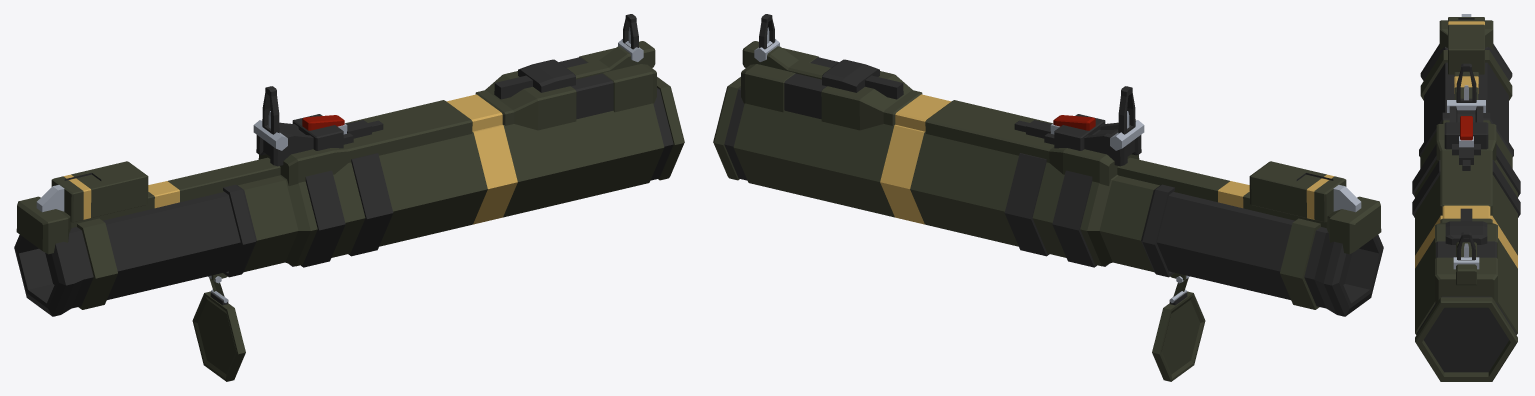
The model's file is raketenwerfer.glb.
3 renders of one model, left to right at view 1: azimuth 30°, elevation 25°; view 2: azimuth 150°, elevation 25°; view 3: azimuth 270°, elevation 25°, orthographic. The views are drawn at different scales.
Visible parts, largest first — view 1: raketenwerfer; view 2: raketenwerfer; view 3: raketenwerfer.
Part boxes in pixels (x1,y1,x2,y2): raketenwerfer: (14,14,684,381); raketenwerfer: (713,14,1383,381); raketenwerfer: (1412,14,1520,381).
Bounding box in the file's own units: 6.53 × 2.71 × 1.11.
